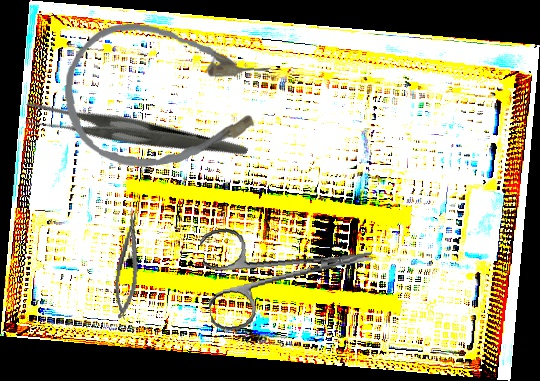Cannula: (61, 20, 273, 174)
Dressing Forceps: (17, 45, 250, 223)
Iris Scissors: (198, 208, 381, 334)
Needle Holder: (108, 207, 149, 321)
